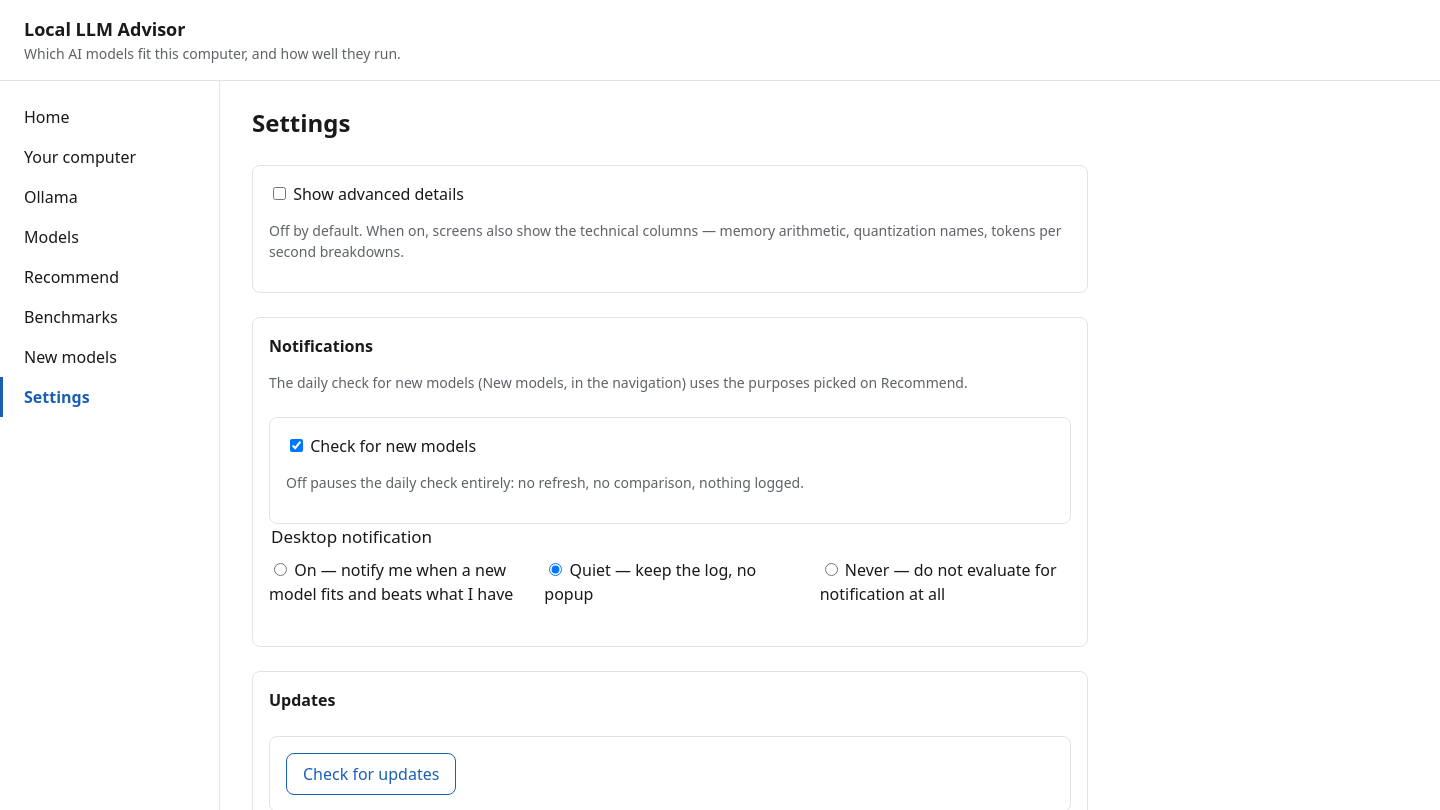
it: the Advanced toggle › flips the settings state for every screen and persists it
Click the checkbox labelled "Show advanced details": (280, 194) [273, 187, 286, 200]
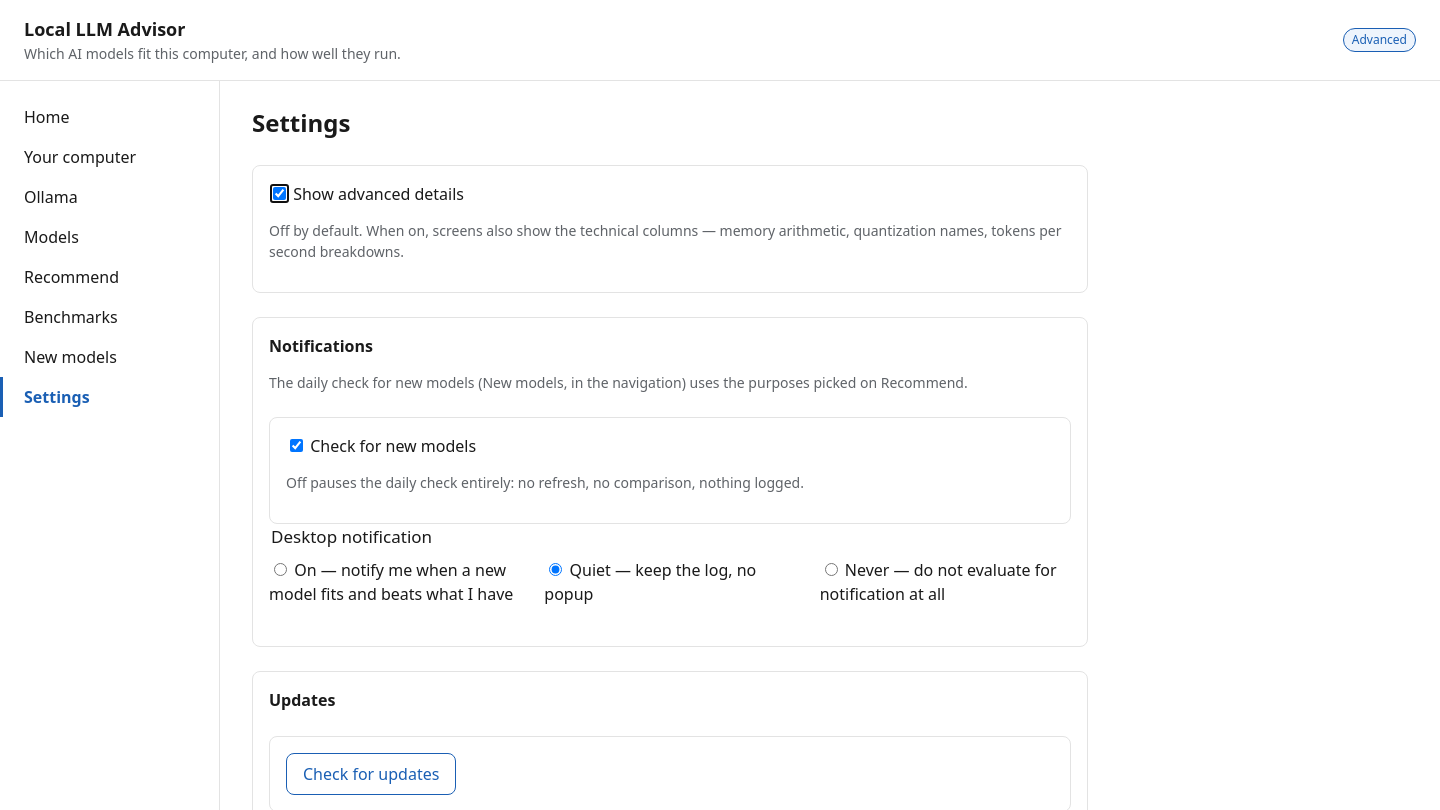
Expected: the text "Advanced" is shown, [1343, 28, 1416, 52]
Click the link "Models": (51, 237) [24, 226, 79, 248]
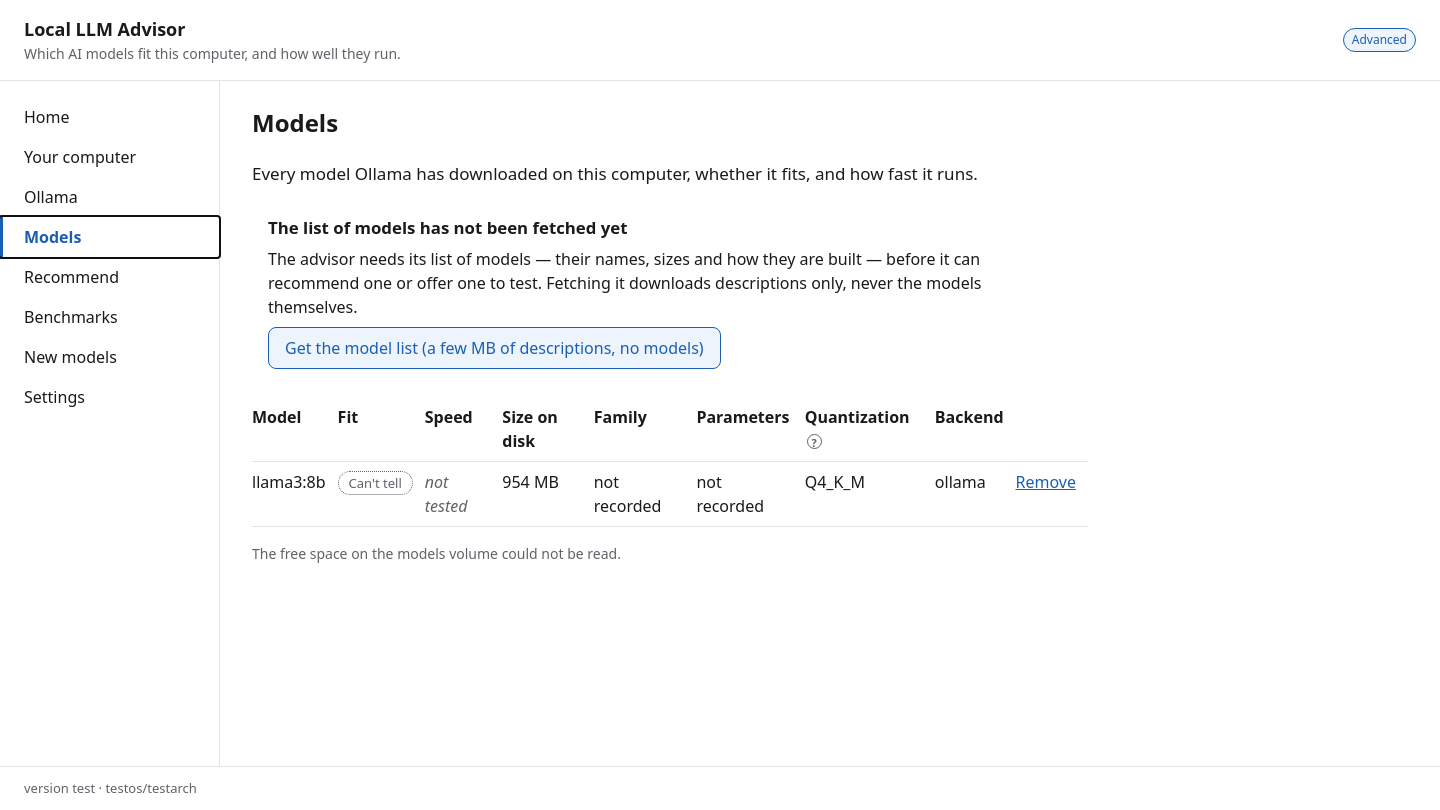
Expected: the heading "Models" is shown, [252, 106, 338, 139]
Expected: the column heading with test id "models-advanced" is shown, [805, 397, 935, 461]
